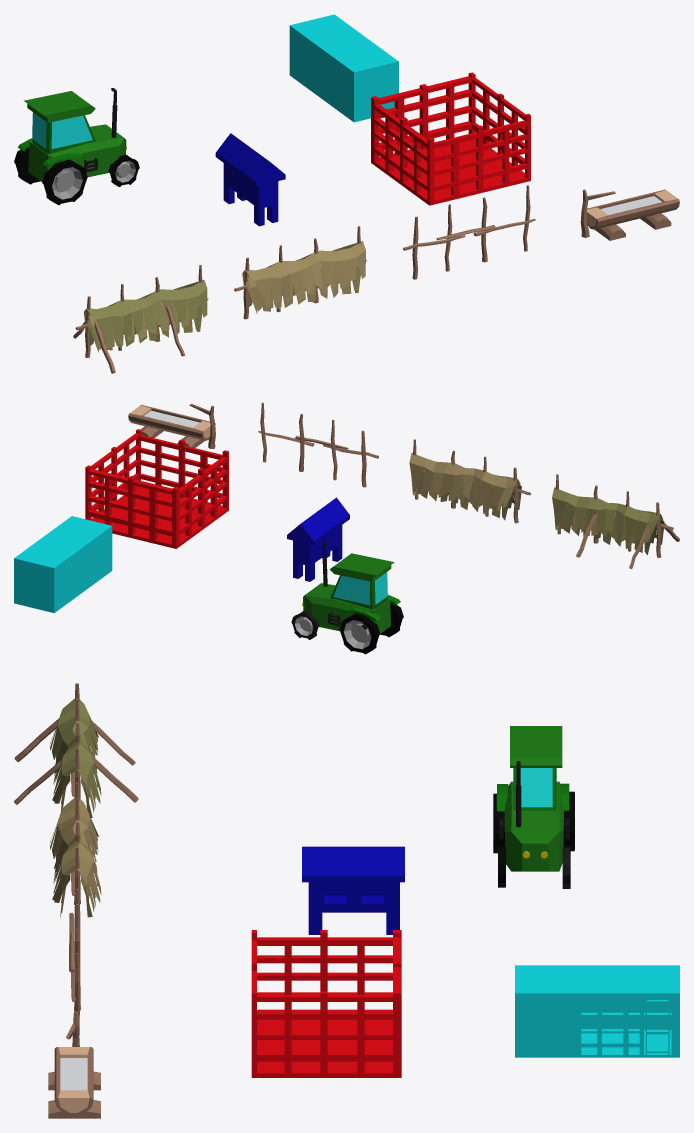
Rendered from Farm_Assets_v1.fbx.
3 views of the same model, one above another, from view 1: azimuth 30°, elevation 25°; view 2: azimuth 150°, elevation 25°; view 3: azimuth 270°, elevation 25° (orthographic). The views are drawn at different scales.
Visible parts, largest first — view 1: Farm_AnimalPen_1, Farm_Tractor_1, Farm_AnimalPen_2, Farm_Hayrack_Grass_2, Farm_Hayrack_Grass_1, Farm_Henhouse_1, Farm_WaterTrough_1, Farm_Hayrack_1; view 2: Farm_AnimalPen_1, Farm_Tractor_1, Farm_AnimalPen_2, Farm_Hayrack_Grass_2, Farm_Hayrack_Grass_1, Farm_Henhouse_1, Farm_WaterTrough_1, Farm_Hayrack_1; view 3: Farm_AnimalPen_1, Farm_AnimalPen_2, Farm_Tractor_1, Farm_Henhouse_1, Farm_Hayrack_Grass_2, Farm_Hayrack_Grass_1, Farm_WaterTrough_1, Farm_Hayrack_1.
Boxes of the visible parts, box(x1,y1,x2,y2) form: Farm_AnimalPen_1: box(371, 72, 530, 205); Farm_Tractor_1: box(14, 88, 139, 205); Farm_AnimalPen_2: box(289, 14, 398, 122); Farm_Hayrack_Grass_2: box(73, 265, 208, 373); Farm_Hayrack_Grass_1: box(234, 226, 366, 319); Farm_Henhouse_1: box(215, 133, 285, 226); Farm_WaterTrough_1: box(580, 189, 679, 240); Farm_Hayrack_1: box(403, 185, 535, 279); Farm_AnimalPen_1: box(85, 429, 228, 548); Farm_Tractor_1: box(291, 541, 403, 654); Farm_AnimalPen_2: box(14, 516, 112, 613); Farm_Hayrack_Grass_2: box(552, 474, 679, 568); Farm_Hayrack_Grass_1: box(409, 439, 530, 523); Farm_Henhouse_1: box(287, 497, 349, 581); Farm_WaterTrough_1: box(128, 403, 215, 448); Farm_Hayrack_1: box(258, 402, 378, 487); Farm_AnimalPen_1: box(251, 930, 401, 1077); Farm_AnimalPen_2: box(515, 965, 679, 1057); Farm_Tractor_1: box(493, 726, 574, 888); Farm_Henhouse_1: box(302, 846, 404, 934); Farm_Hayrack_Grass_2: box(14, 683, 138, 817); Farm_Hayrack_Grass_1: box(50, 782, 101, 918); Farm_WaterTrough_1: box(48, 1011, 100, 1118); Farm_Hayrack_1: box(69, 888, 80, 1023).
Bounding box in the file's own units: 2433 × 377 × 1833.
